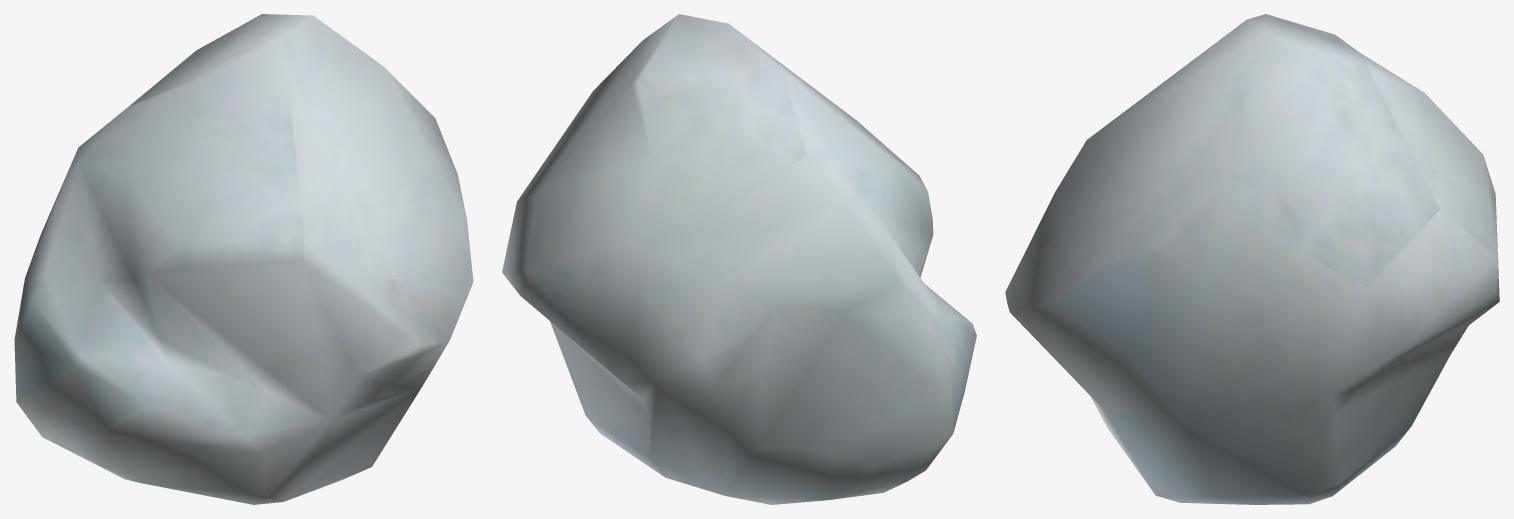
File: P_RockClassic12.obj
The picture shows the model from 3 angles, left to right: view 1: azimuth 30°, elevation 25°; view 2: azimuth 150°, elevation 25°; view 3: azimuth 270°, elevation 25°; orthographic projection. The views are drawn at different scales.
Bounding box in the file's own units: 2.78 × 2.86 × 2.74.
